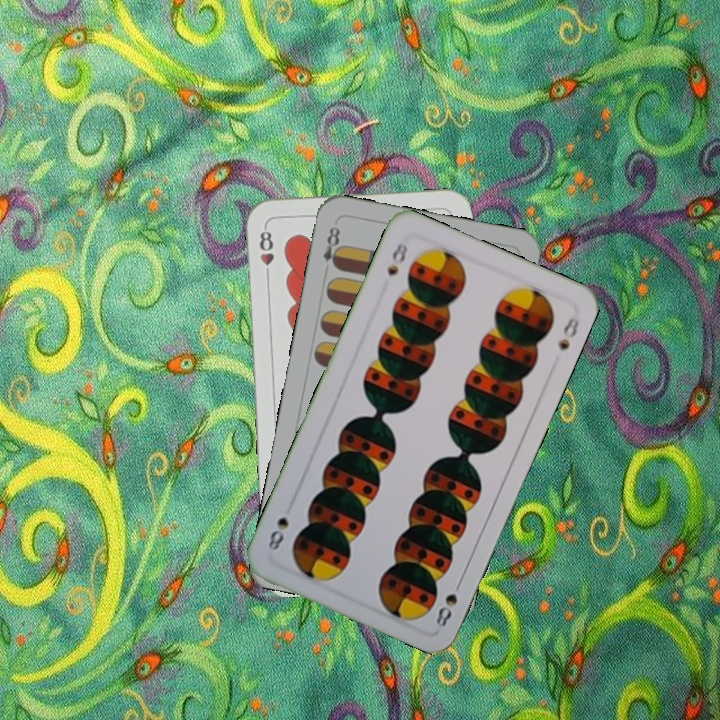E8: (319, 222, 345, 271)
H8: (256, 222, 277, 282)
S8: (431, 574, 466, 630), (383, 237, 410, 278)
